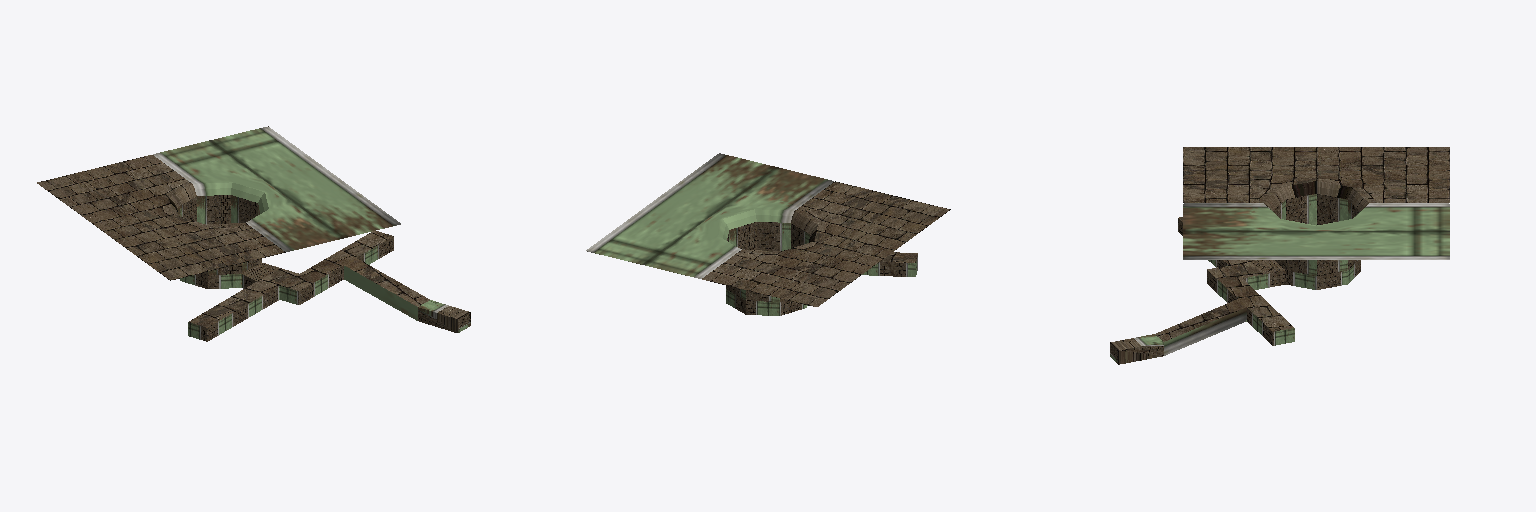
3 renders of one model, left to right at view 1: azimuth 30°, elevation 25°; view 2: azimuth 150°, elevation 25°; view 3: azimuth 270°, elevation 25°, orthographic.
Visible parts, largest first — view 1: Cube.003; view 2: Cube.003; view 3: Cube.003.
Part boxes in pixels (left/top/right/bottom): Cube.003: left=37, top=126, right=470, bottom=341; Cube.003: left=586, top=153, right=950, bottom=315; Cube.003: left=1110, top=147, right=1449, bottom=364.
Size of the model in its own units: 26.04 by 8.08 by 28.6.
Materials: 1 (1 with a texture image).